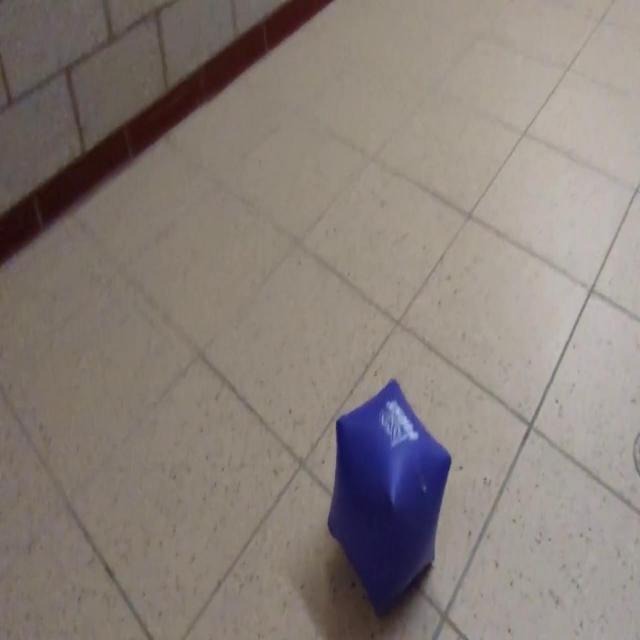frc_cube: (323, 369, 453, 619)
